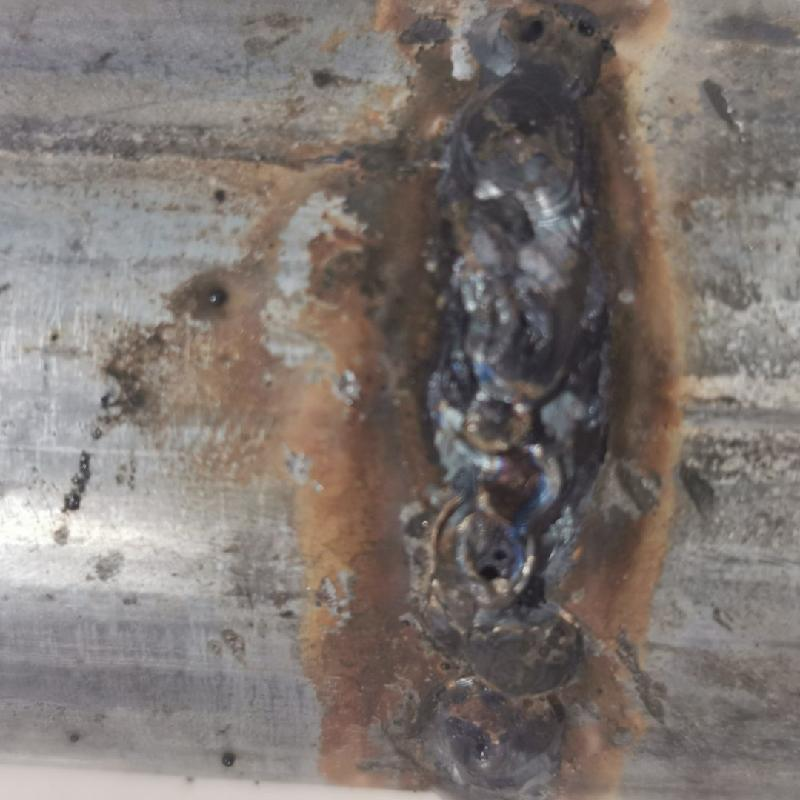Surface_pores: (508, 5, 597, 62), (467, 733, 502, 766)
crater: (437, 293, 607, 613)
wrong_size: (468, 4, 613, 287), (433, 618, 571, 799)
